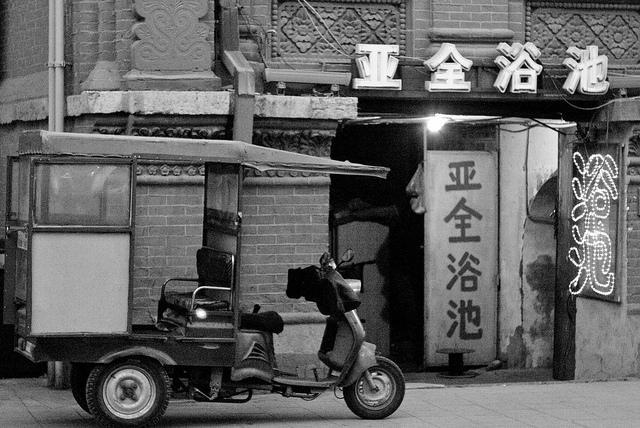motorcycle: (229, 251, 410, 422)
